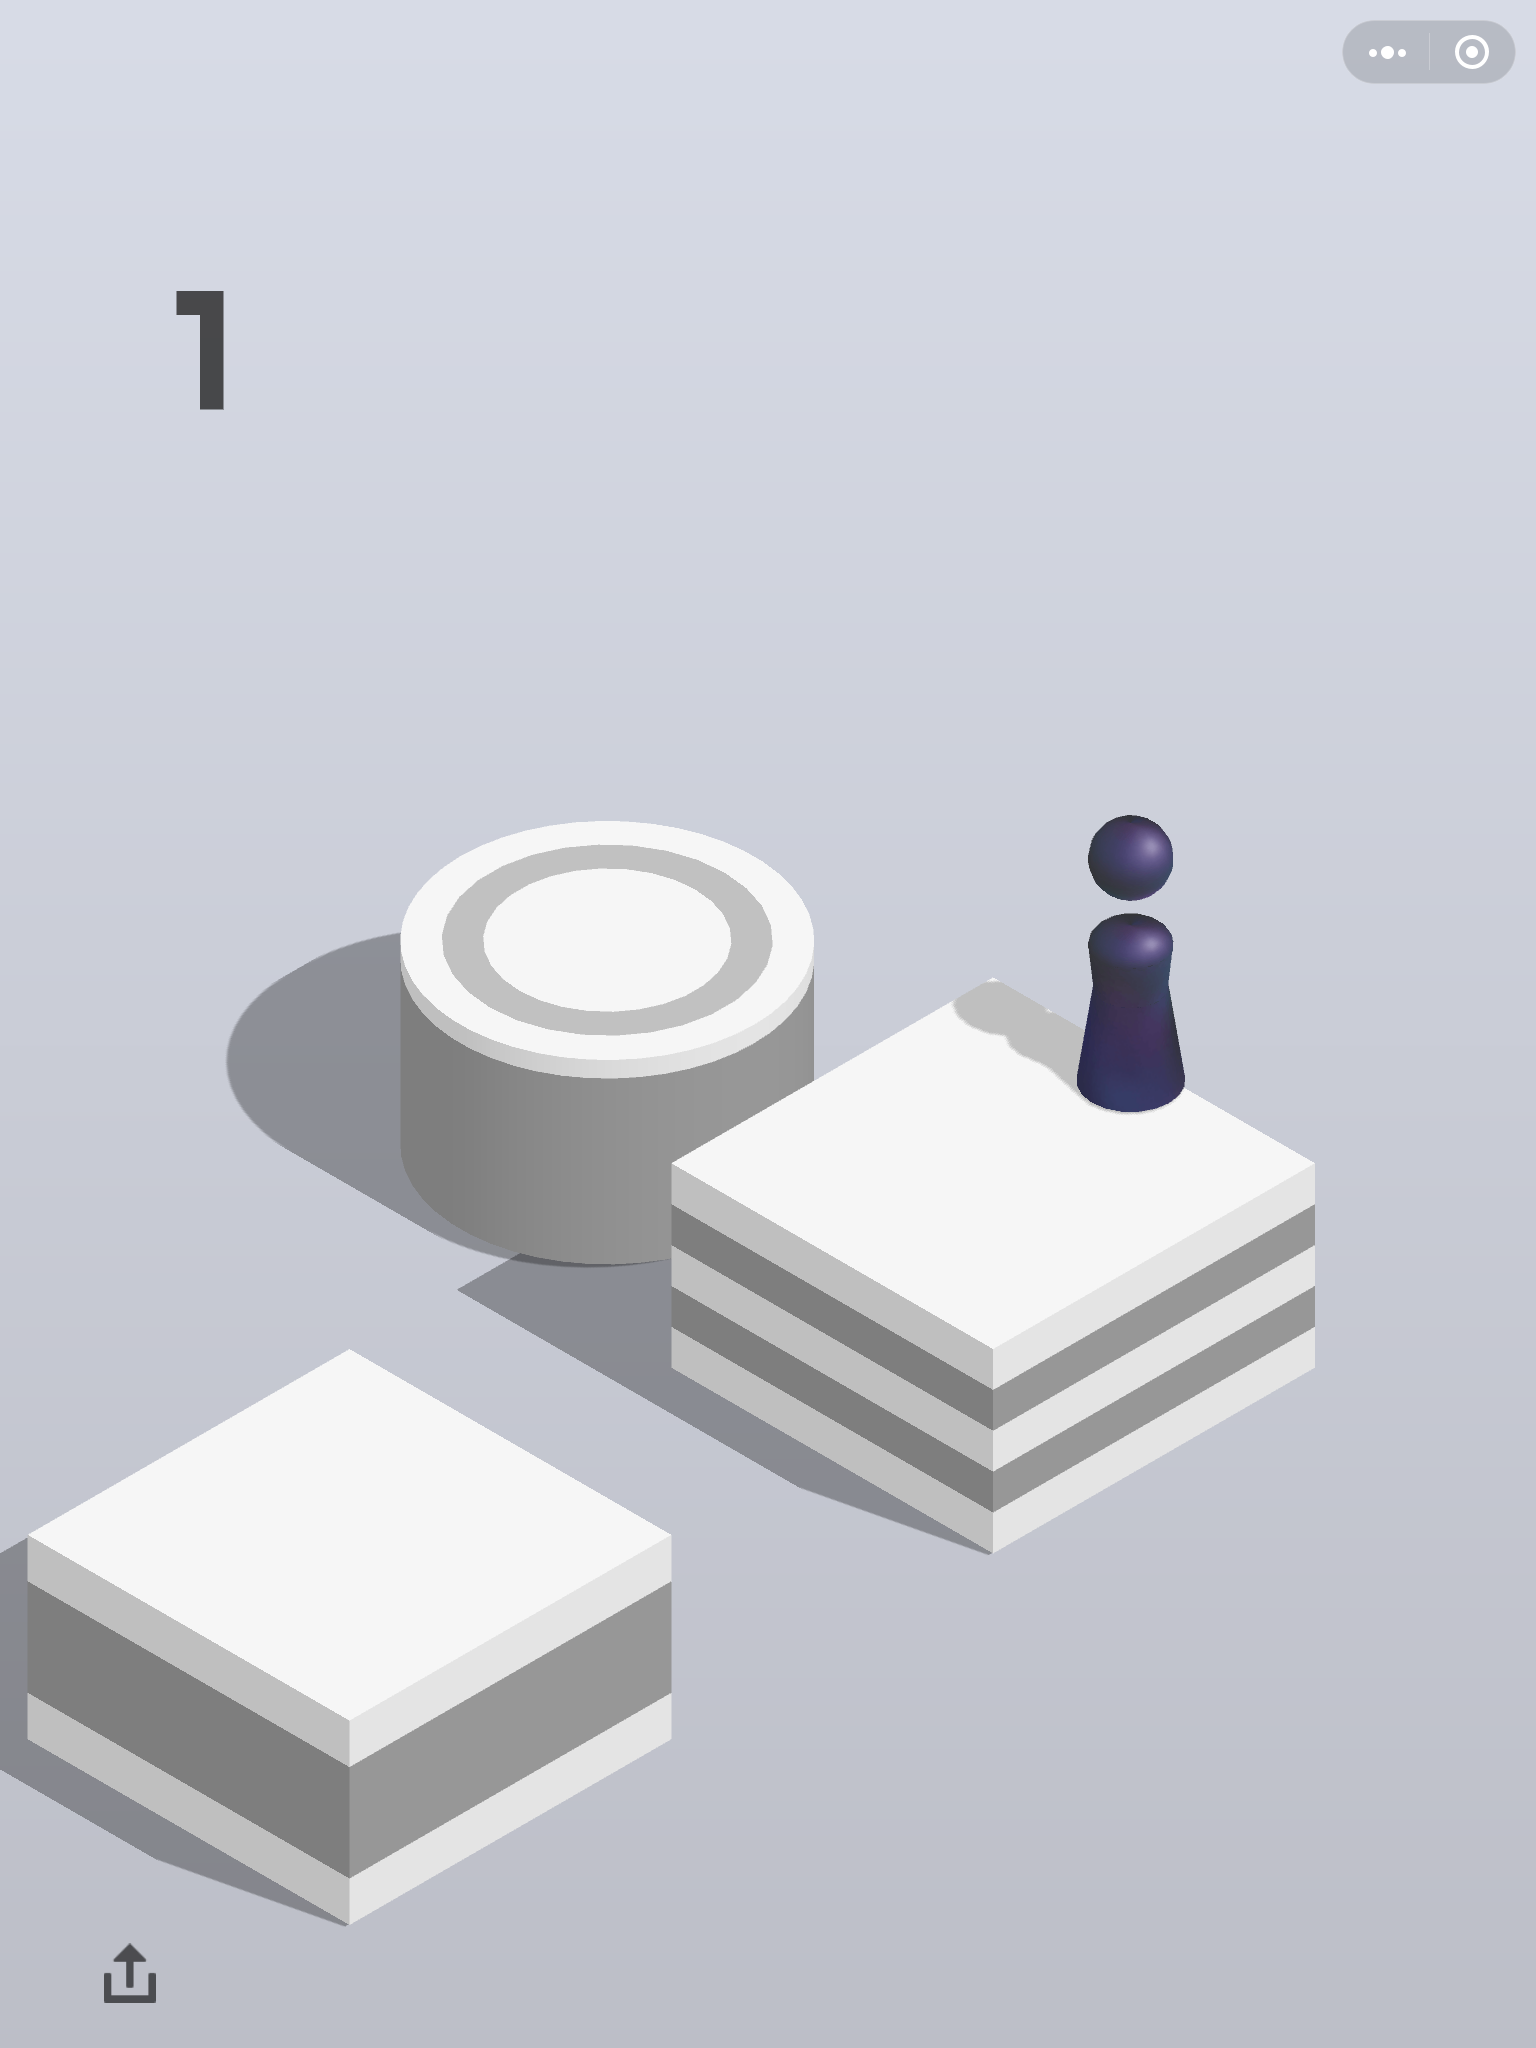c: (394, 811, 818, 1277)
f: (663, 968, 1321, 1564), (19, 1343, 679, 1934)
r: (1073, 805, 1191, 1118)
